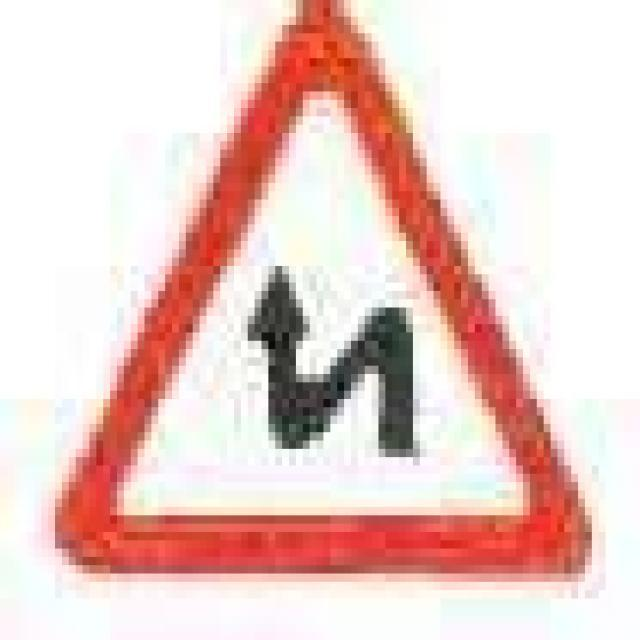left reverse bend: (66, 31, 596, 579)
